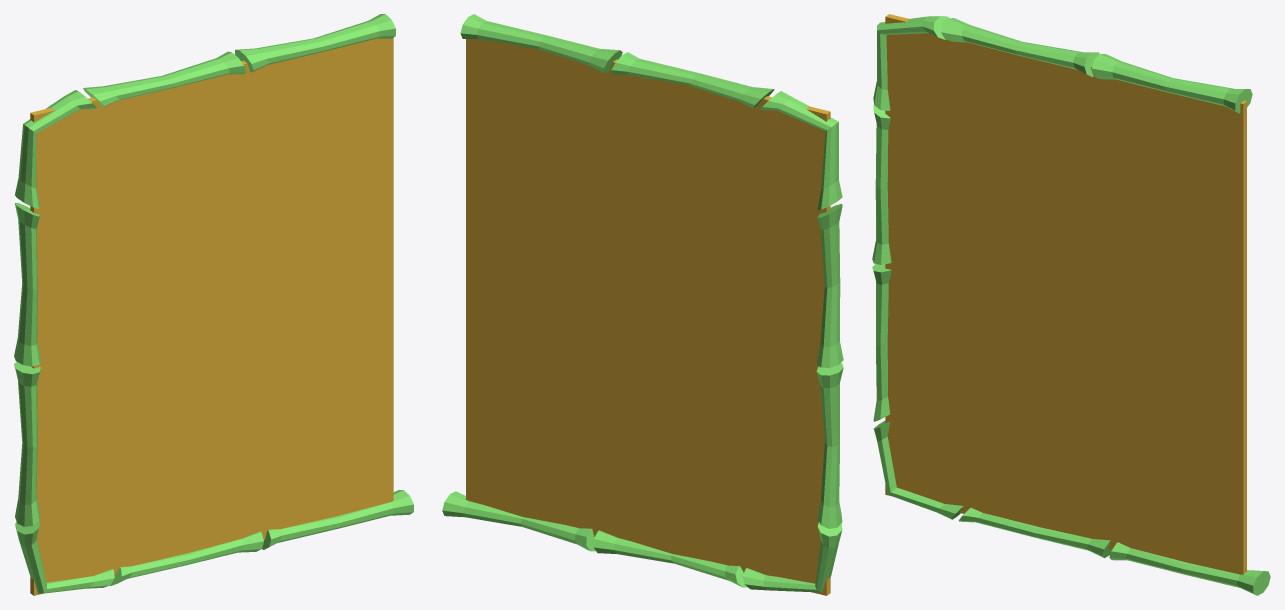
Rendered from Bamboo Wall.fbx.
3 views of the same model, side by side, from view 1: azimuth 30°, elevation 25°; view 2: azimuth 150°, elevation 25°; view 3: azimuth 330°, elevation 25° (orthographic).
Visible parts, largest first — view 1: Bamboo Wall; view 2: Bamboo Wall; view 3: Bamboo Wall.
Boxes of the visible parts, x1,y1,x2,y2 form: Bamboo Wall: (14,14,413,595); Bamboo Wall: (442,14,843,595); Bamboo Wall: (872,14,1270,595).
Bounding box in the file's own units: 108 × 134 × 8.46.
